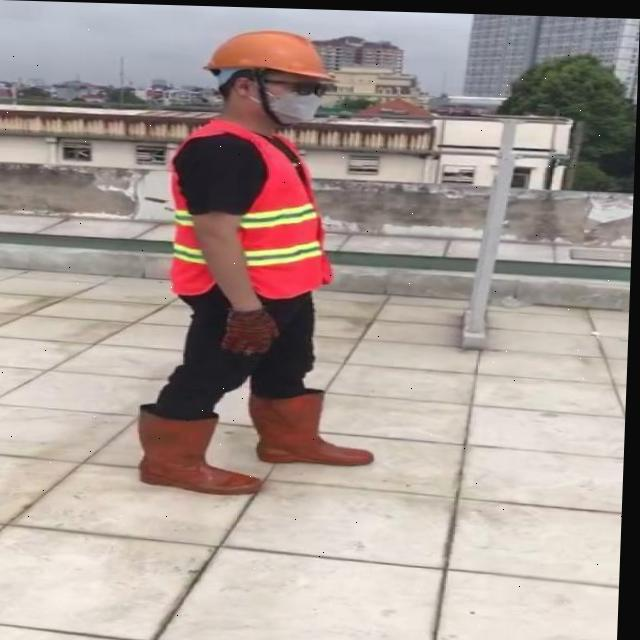Gloves: (223, 304, 284, 356)
Helmet: (202, 27, 342, 87)
Safety-Boot: (140, 401, 269, 493), (251, 384, 381, 464)
Safety-Vest: (168, 116, 341, 301)
